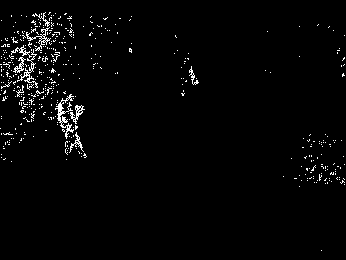person: (58, 93, 88, 160)
